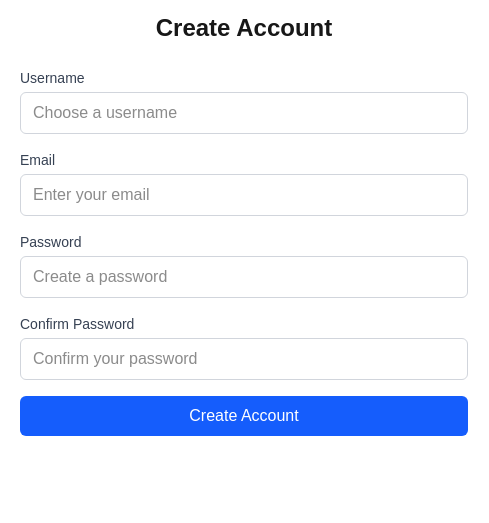
Scenario: RegisterForm › should display error for short password
In the field labelled "Username": (244, 113) [20,92,468,134], type "testuser"
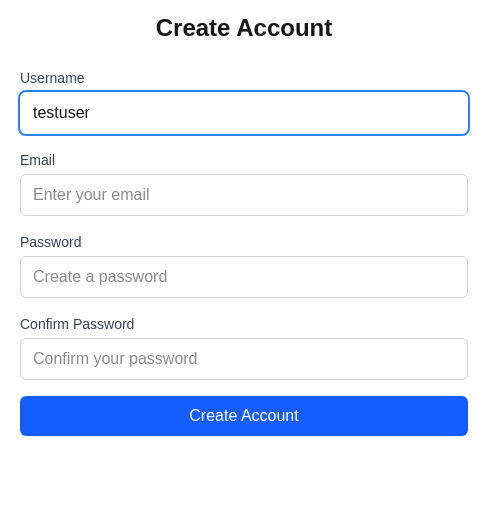
In the field labelled "Email": (244, 195) [20,174,468,216], type "test@example.com"
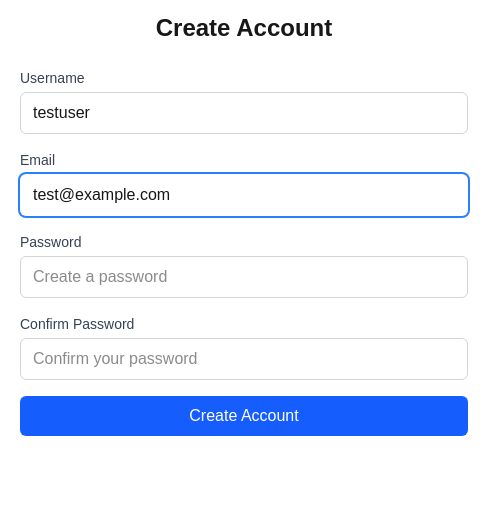
In the password field labelled "Password": (244, 277) [20,256,468,298], type "123"
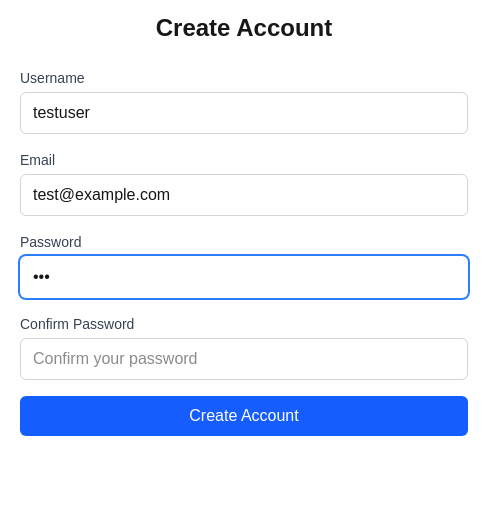
In the password field labelled "Confirm Password": (244, 359) [20,338,468,380], type "123"
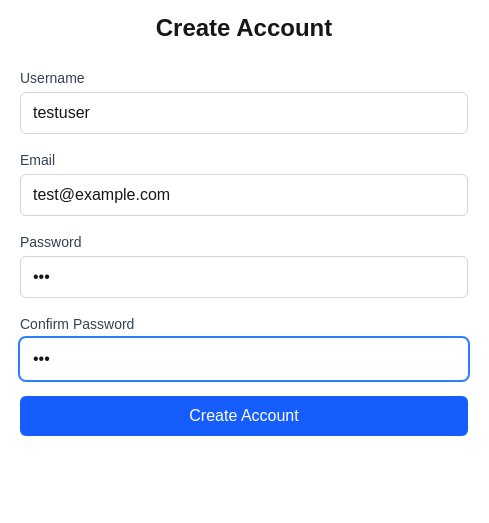
Click the button "Create Account": click(244, 416) [20,396,468,436]
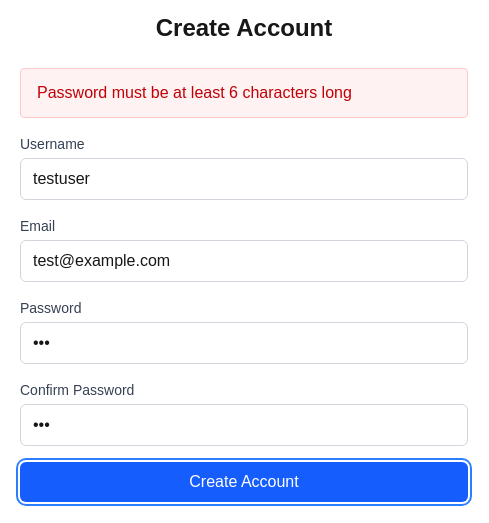
Now the text "Password must be at least 6 characters long" is shown, box [20,68,468,118]
